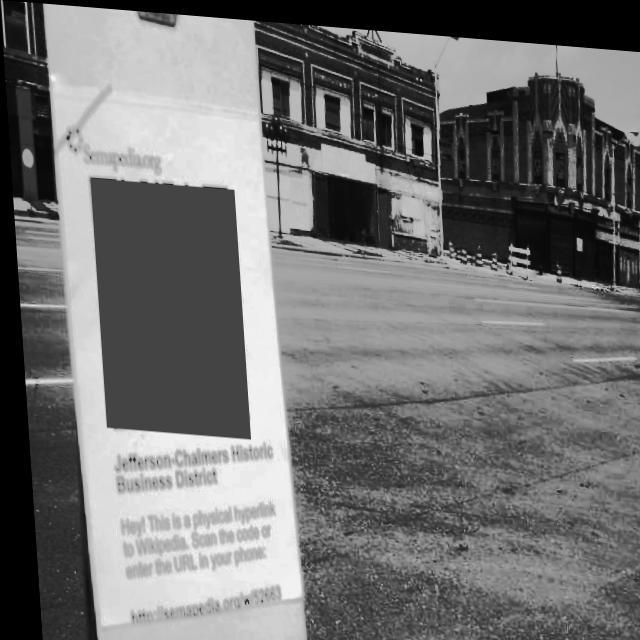qr_code: (88, 177, 245, 435)
